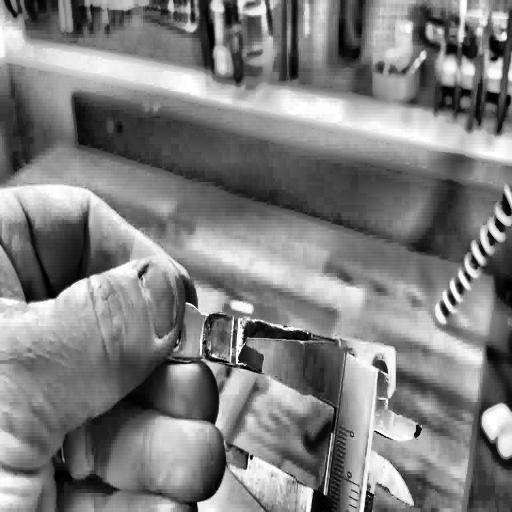busbar: (146, 262, 420, 436)
